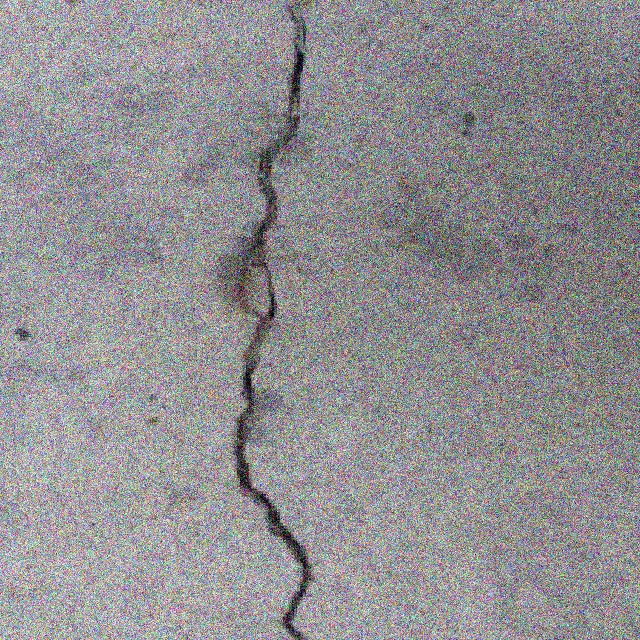SurfaceCrack: (212, 8, 334, 640)
